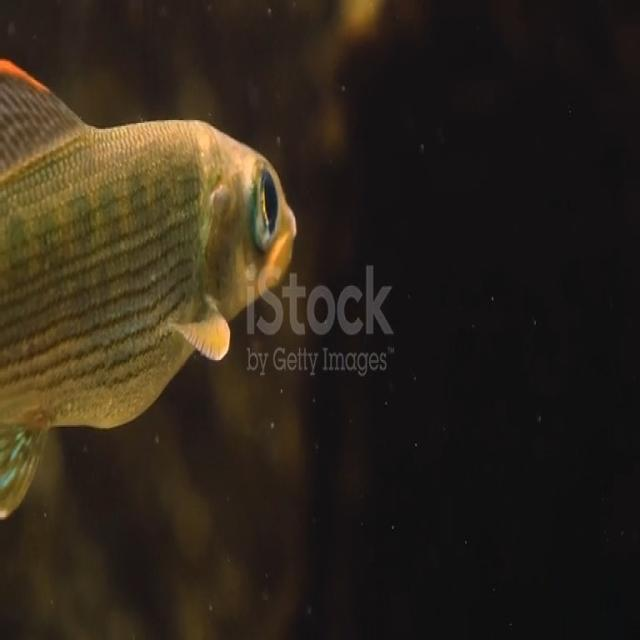fish: (1, 59, 303, 524)
